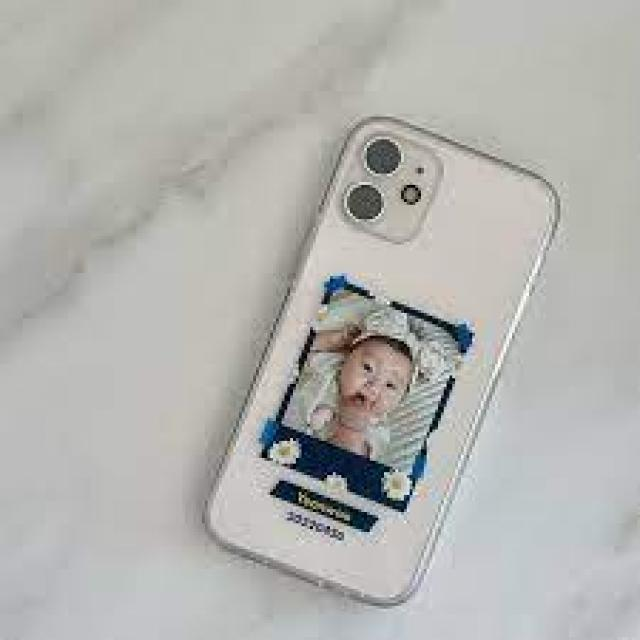Phone: (198, 112, 562, 613)
